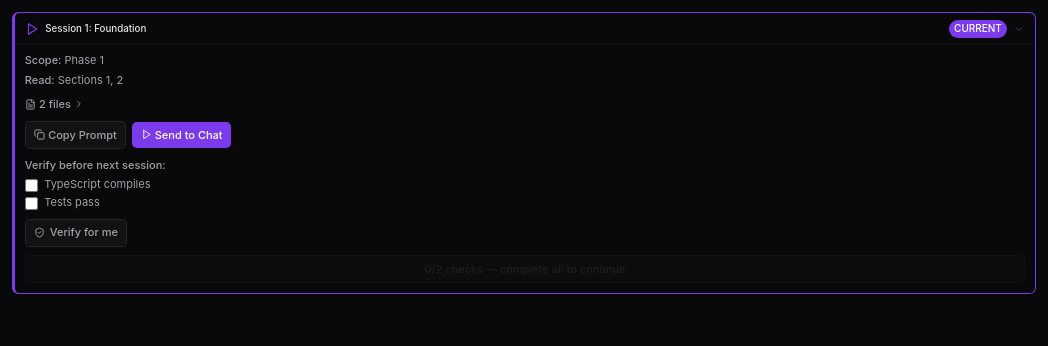
Test case: GuideSessionCard › shows file count and expands file list on click
This screenshot has width=1048, height=346.
Click the button "2 files" at (54, 104), box [25,96,84,113]
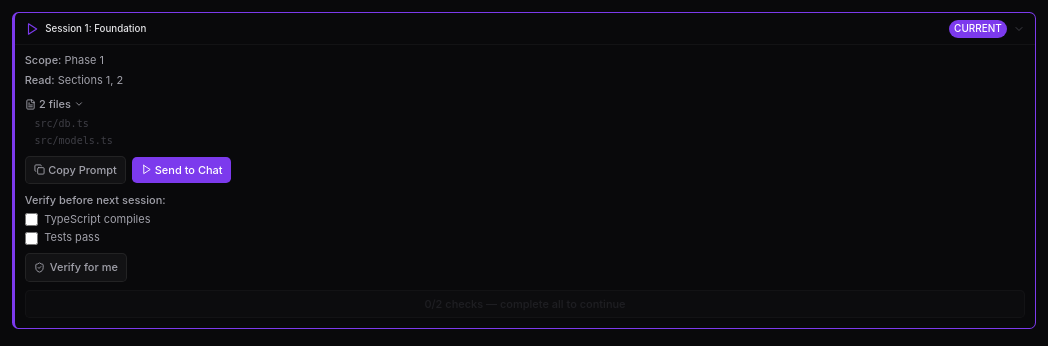
Now the text "src/db.ts" is shown, box [34,118,89,129]
Now the text "src/models.ts" is shown, box [34,134,113,146]
